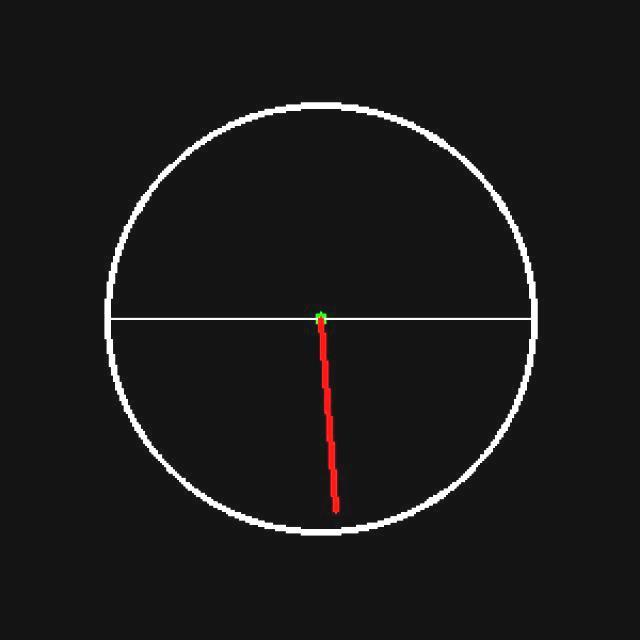Needle_Tip: (315, 484, 357, 530)
Needle_base: (284, 280, 357, 342)
